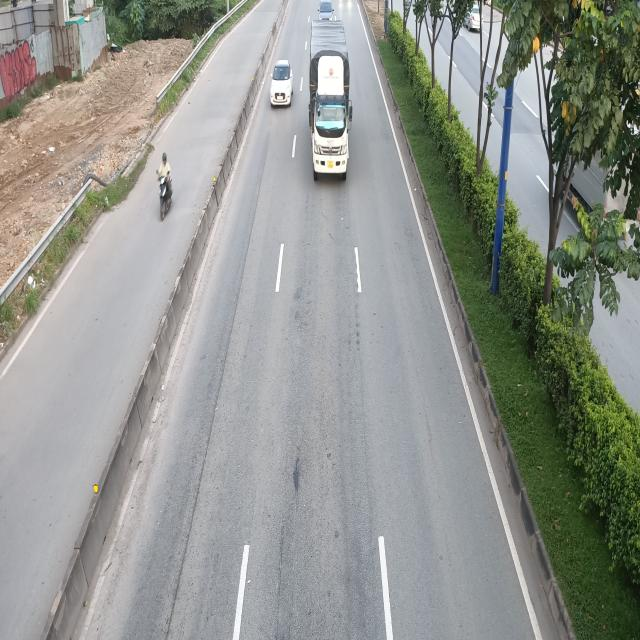car: (270, 58, 295, 107)
truck: (310, 19, 354, 181)
